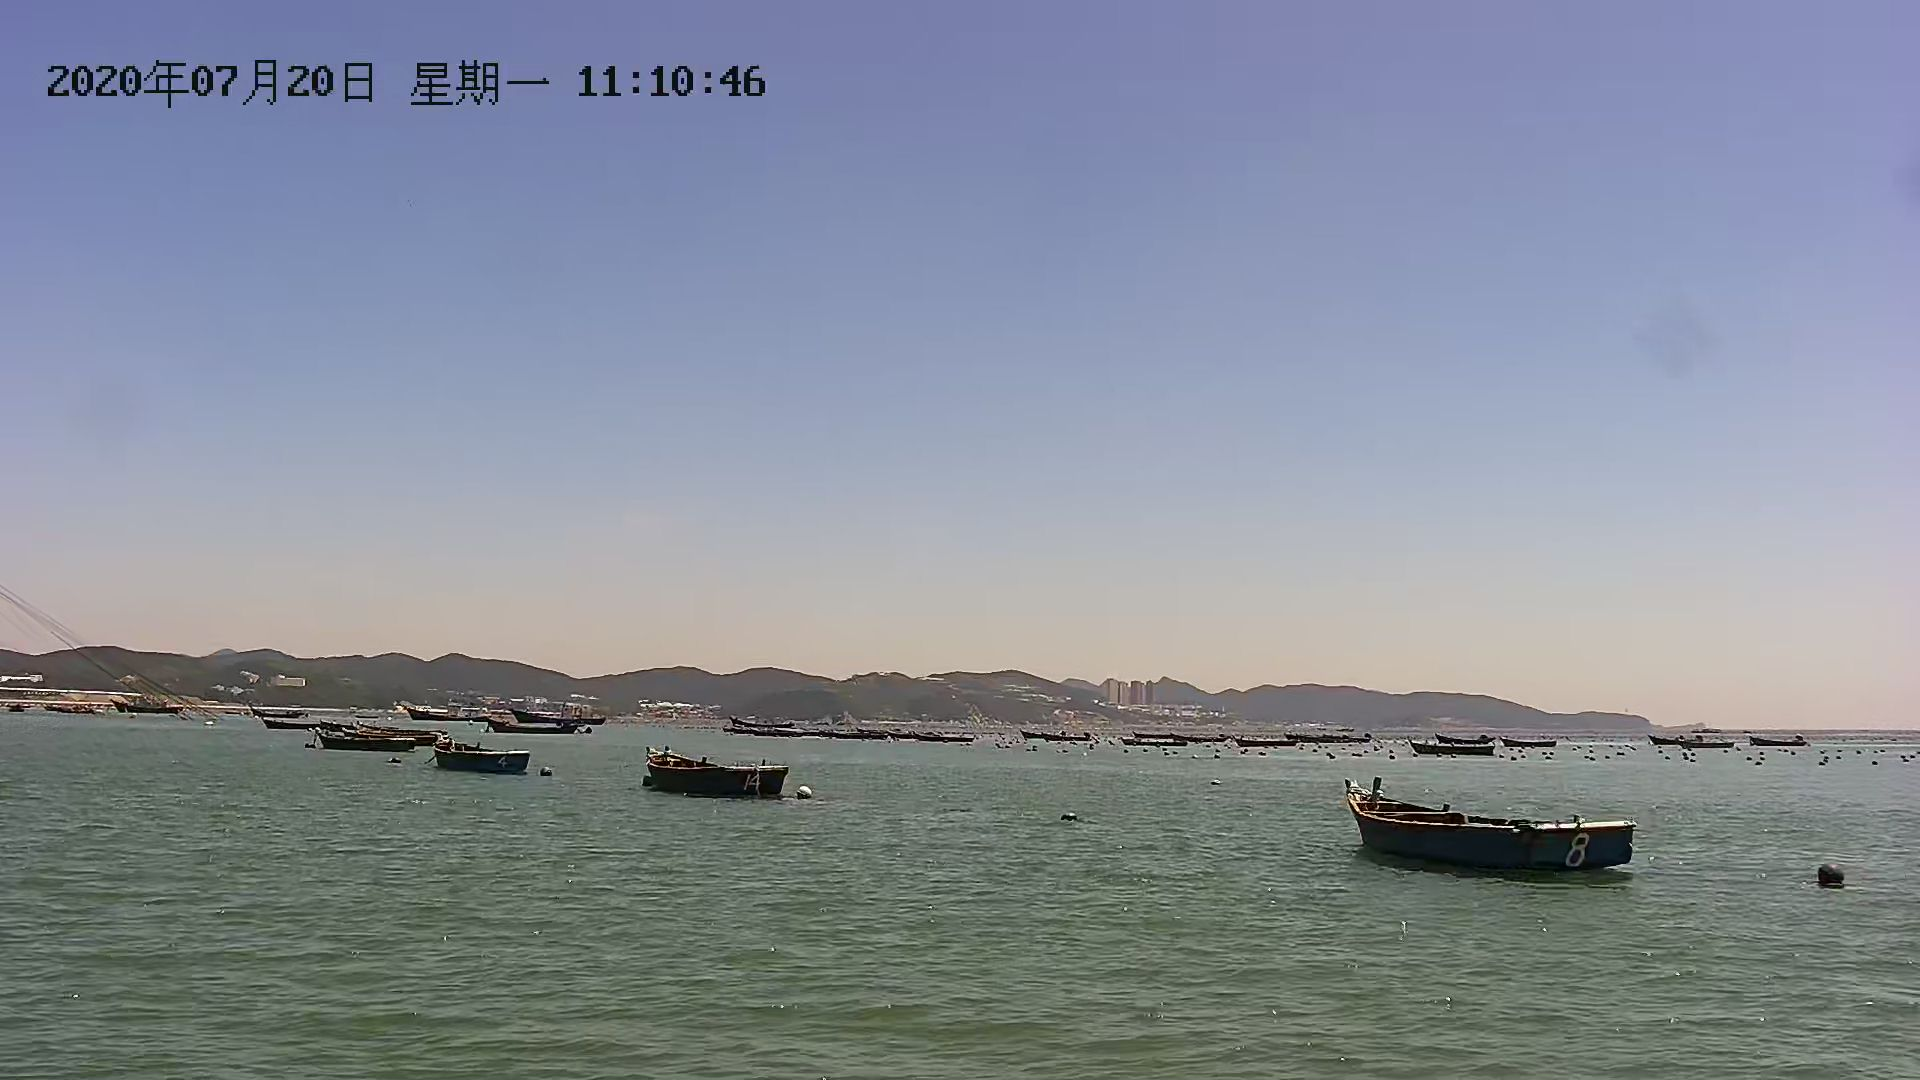ball: (1815, 862, 1847, 887), (534, 760, 562, 781), (1055, 808, 1087, 823), (793, 787, 818, 804)
boat: (1329, 775, 1647, 880), (649, 750, 796, 800), (315, 723, 440, 757), (423, 741, 534, 779), (241, 705, 373, 736)
